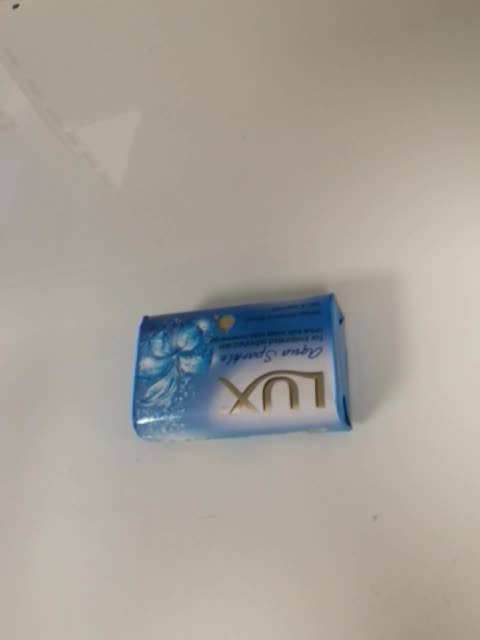soap: (129, 290, 355, 443)
